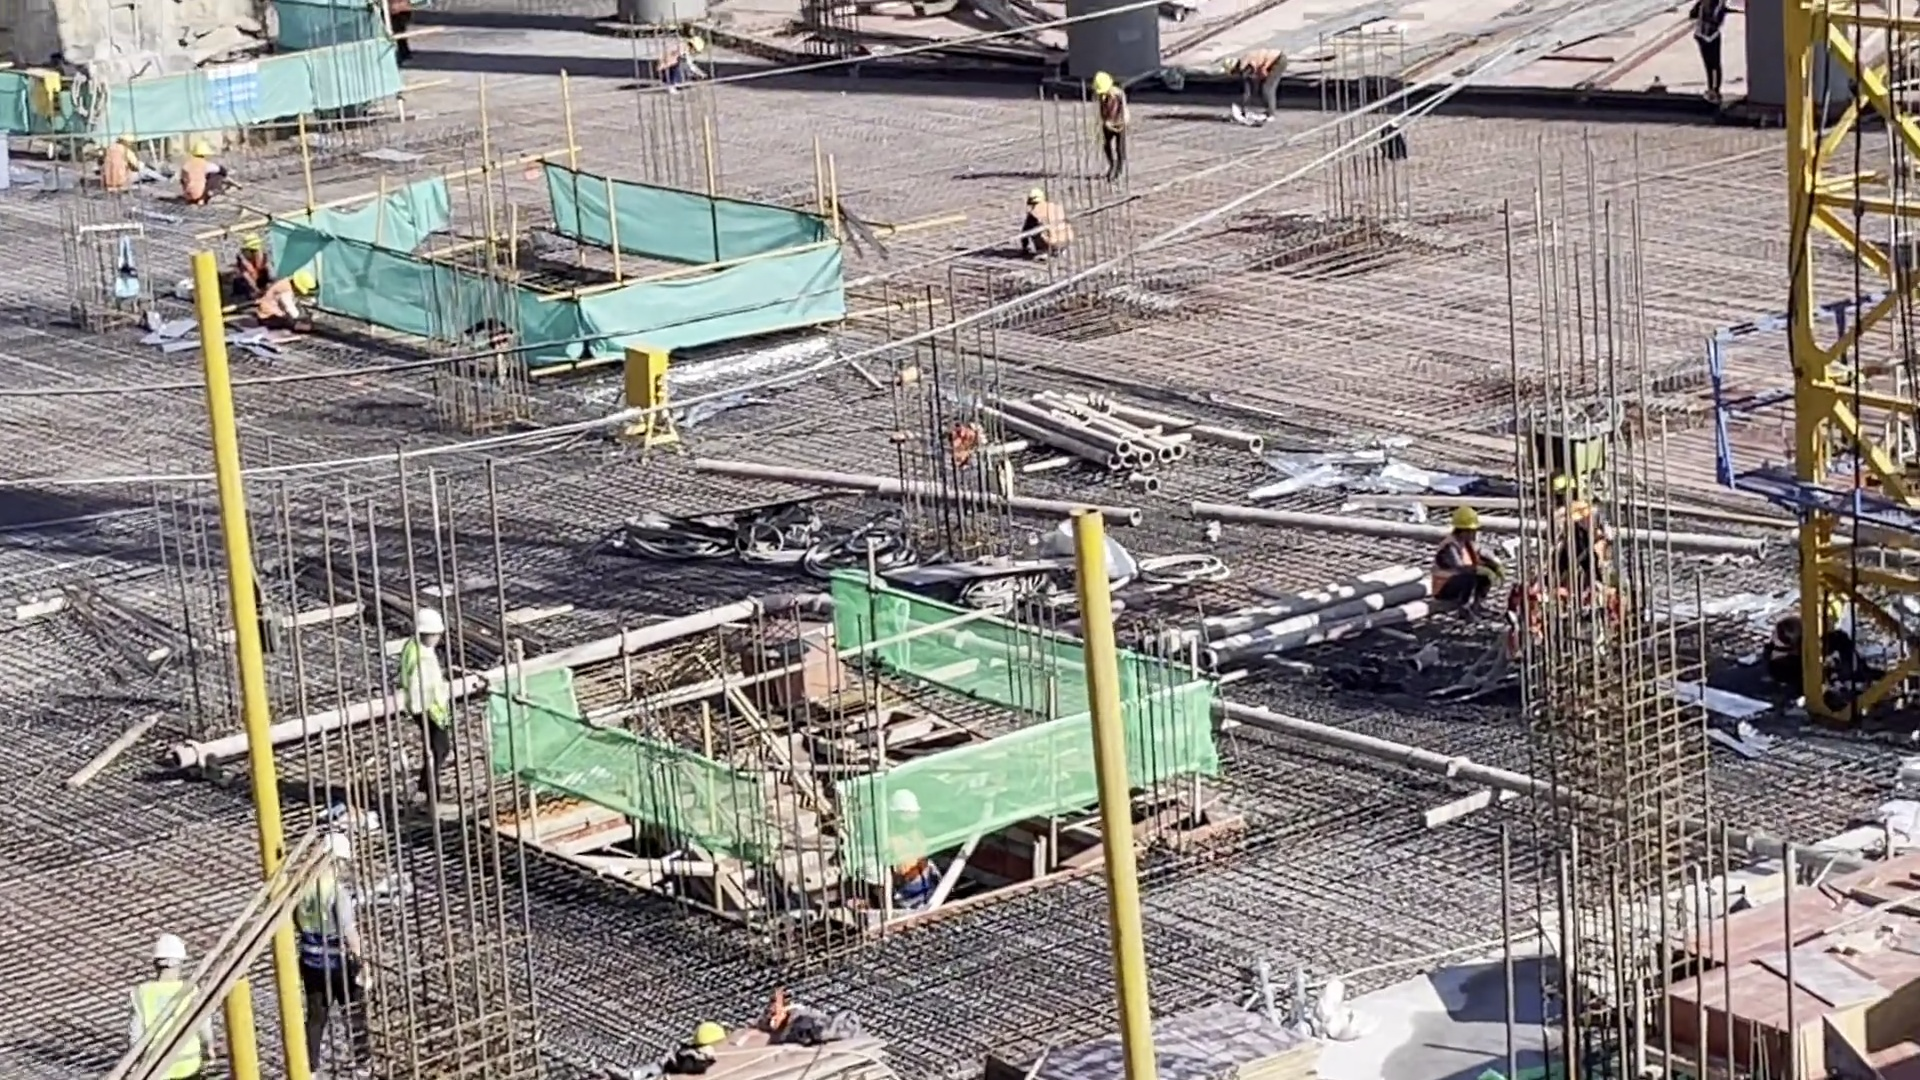helmet: (685, 1023, 726, 1054), (152, 934, 190, 966), (414, 608, 449, 642), (315, 834, 355, 863), (1088, 66, 1118, 95), (1453, 509, 1480, 533), (293, 270, 318, 291), (238, 232, 260, 250), (1219, 57, 1240, 74)
person: (287, 826, 374, 1080), (119, 929, 210, 1080), (398, 610, 456, 811), (1424, 506, 1512, 630), (882, 784, 940, 894), (1219, 47, 1289, 129), (94, 131, 169, 196), (1092, 74, 1135, 182), (1018, 189, 1080, 262), (1689, 1, 1730, 107), (254, 270, 320, 334), (174, 139, 228, 210), (231, 233, 269, 315), (652, 39, 715, 85)
vest: (122, 967, 205, 1080), (292, 875, 356, 975), (402, 639, 449, 731), (1432, 540, 1478, 604), (1032, 206, 1077, 249), (99, 147, 129, 191), (184, 154, 210, 196)
